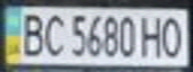0: (118, 12, 139, 59)
5: (66, 11, 87, 57)
6: (84, 11, 106, 58)
8: (103, 12, 121, 59)
B: (15, 9, 48, 57)
C: (39, 10, 69, 57)
H: (139, 12, 166, 59)
O: (160, 12, 187, 59)
